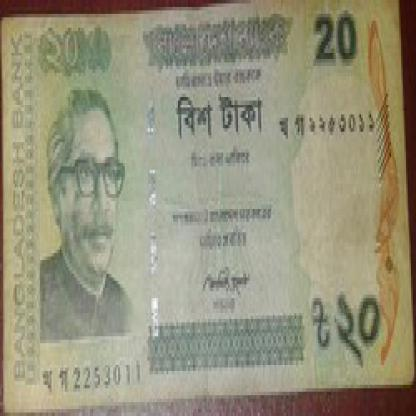Twenty: (308, 278, 389, 367), (170, 94, 276, 138), (298, 10, 383, 62), (35, 24, 115, 76)
